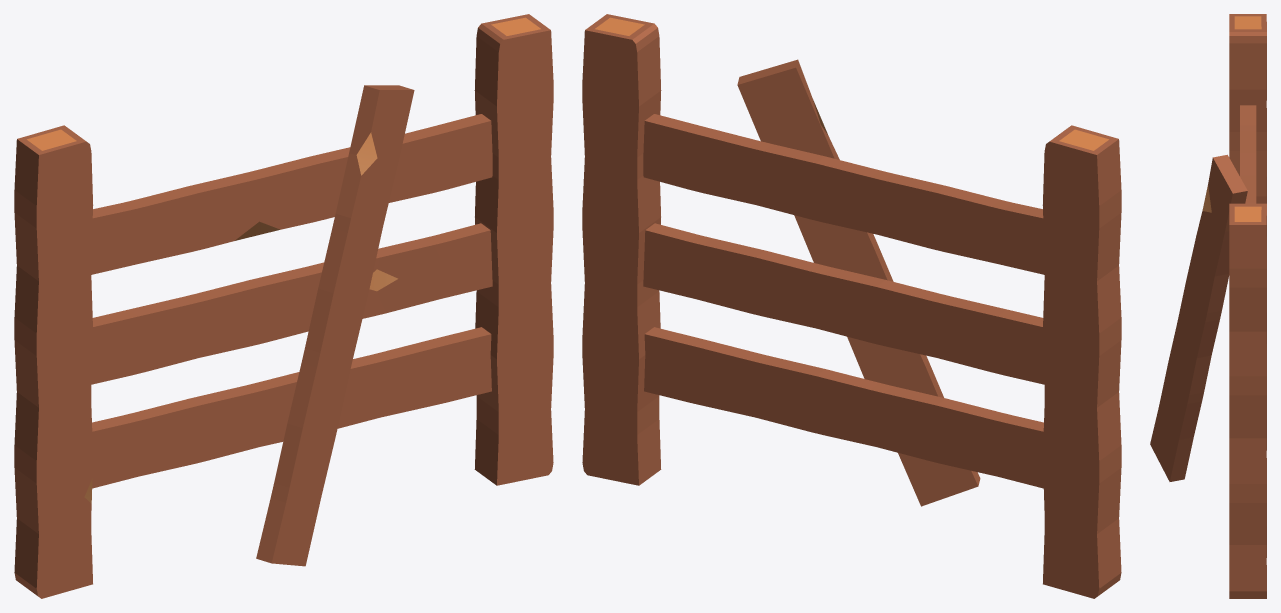
Rendered from Cerca2.fbx.
3 renders of one model, left to right at view 1: azimuth 30°, elevation 25°; view 2: azimuth 150°, elevation 25°; view 3: azimuth 270°, elevation 25°, orthographic. The views are drawn at different scales.
Visible parts, largest first — view 1: Cerca2, Cerca2.001; view 2: Cerca2, Cerca2.001; view 3: Cerca2, Cerca2.001.
Part boxes in pixels (<box>): Cerca2: <box>14,14,553,598</box>; Cerca2.001: <box>256,85,414,566</box>; Cerca2: <box>582,14,1121,598</box>; Cerca2.001: <box>737,59,980,506</box>; Cerca2: <box>1229,14,1266,598</box>; Cerca2.001: <box>1150,154,1247,481</box>.
Size of the model in its own units: 1.14 by 0.9448 by 0.2656.
